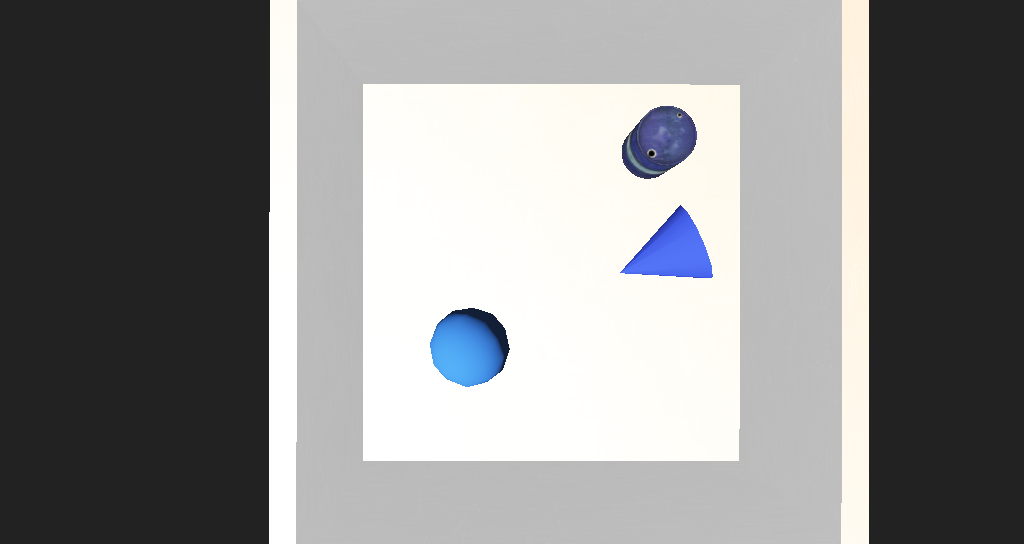cone: (559, 177, 613, 215)
cylinder: (549, 224, 637, 291)
sphere: (404, 289, 472, 332)
